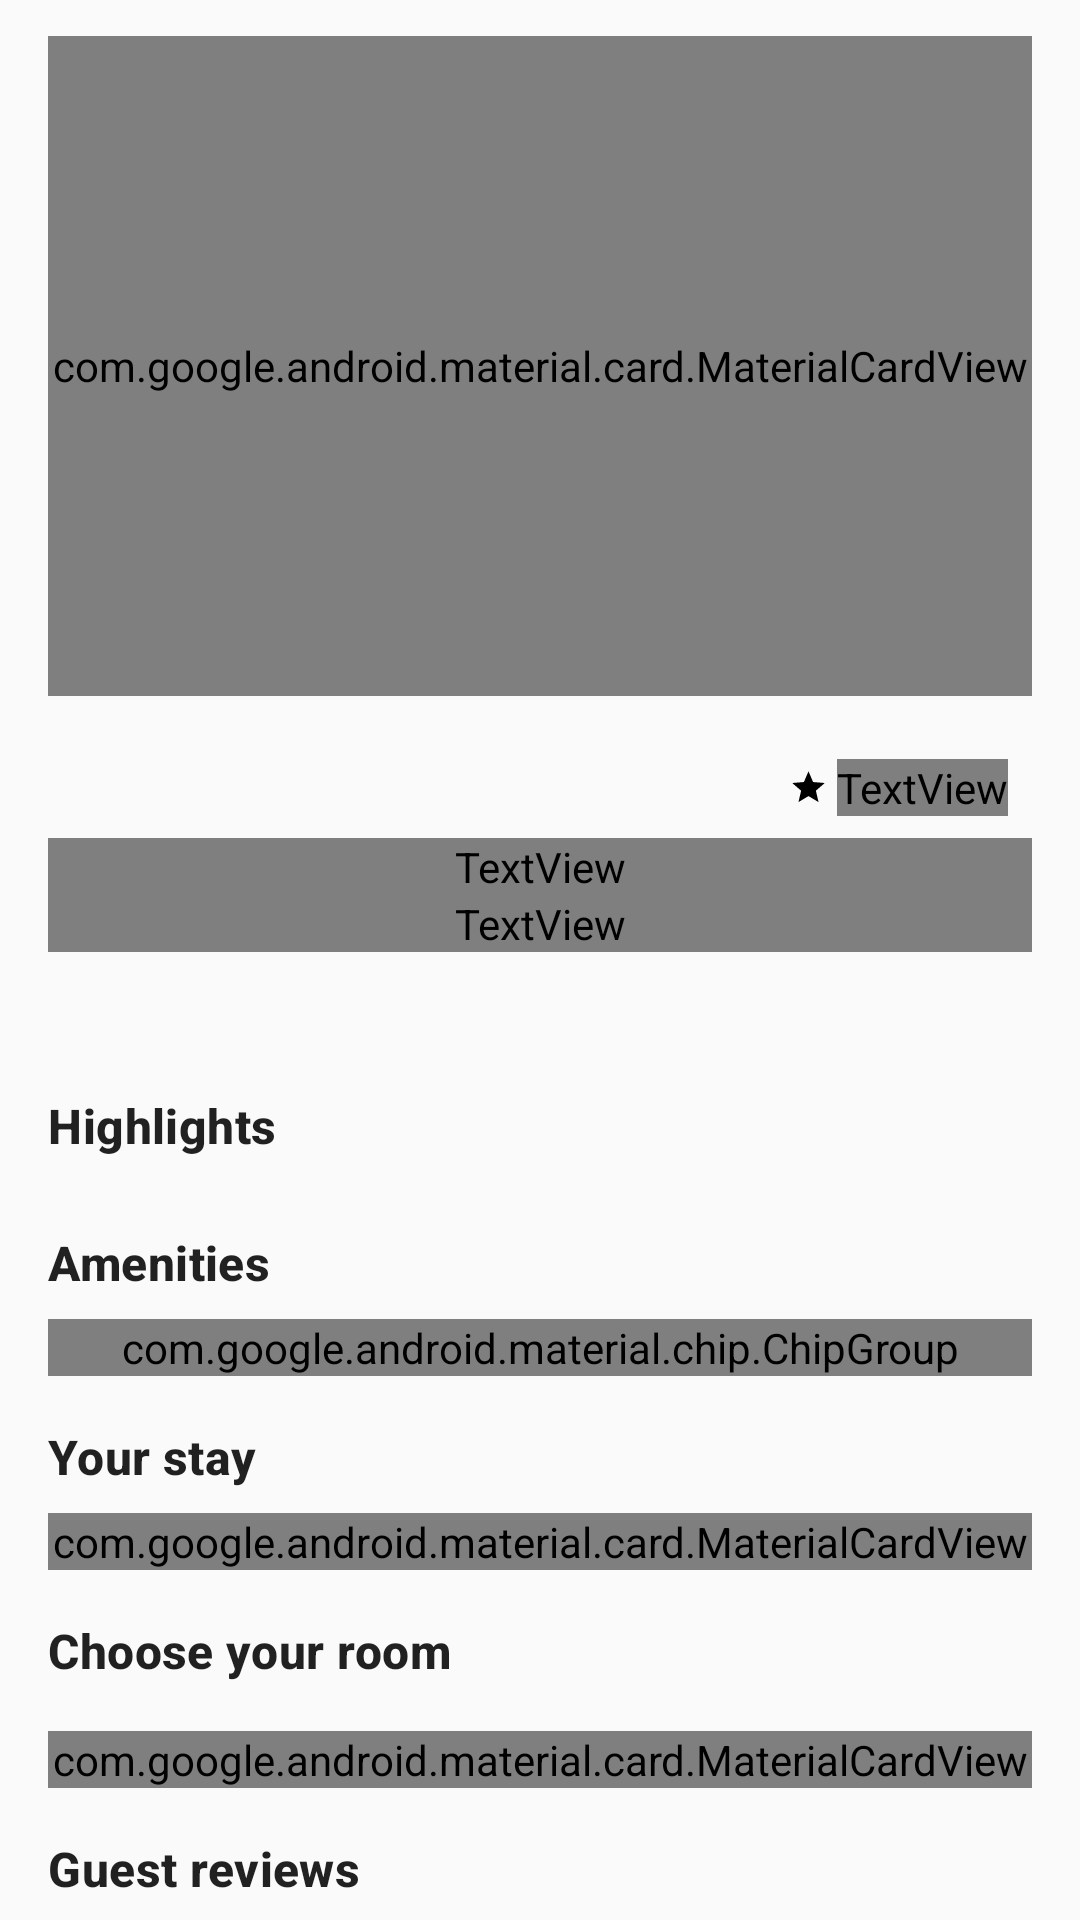

Screen size 1080*1920. Icon name, then its center in pixels as [x,y]:
star: [808,786]
